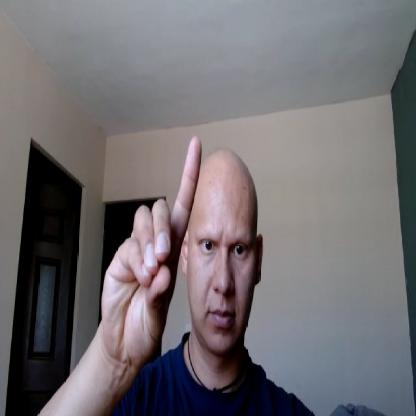D: (103, 136, 202, 363)
